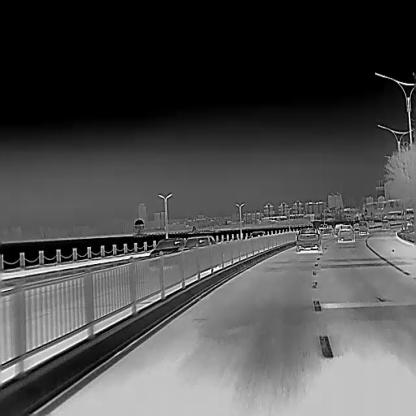car: (147, 237, 185, 266), (295, 227, 322, 252), (180, 235, 216, 250), (337, 224, 354, 242), (358, 220, 369, 235), (381, 218, 391, 230), (248, 231, 265, 238)
